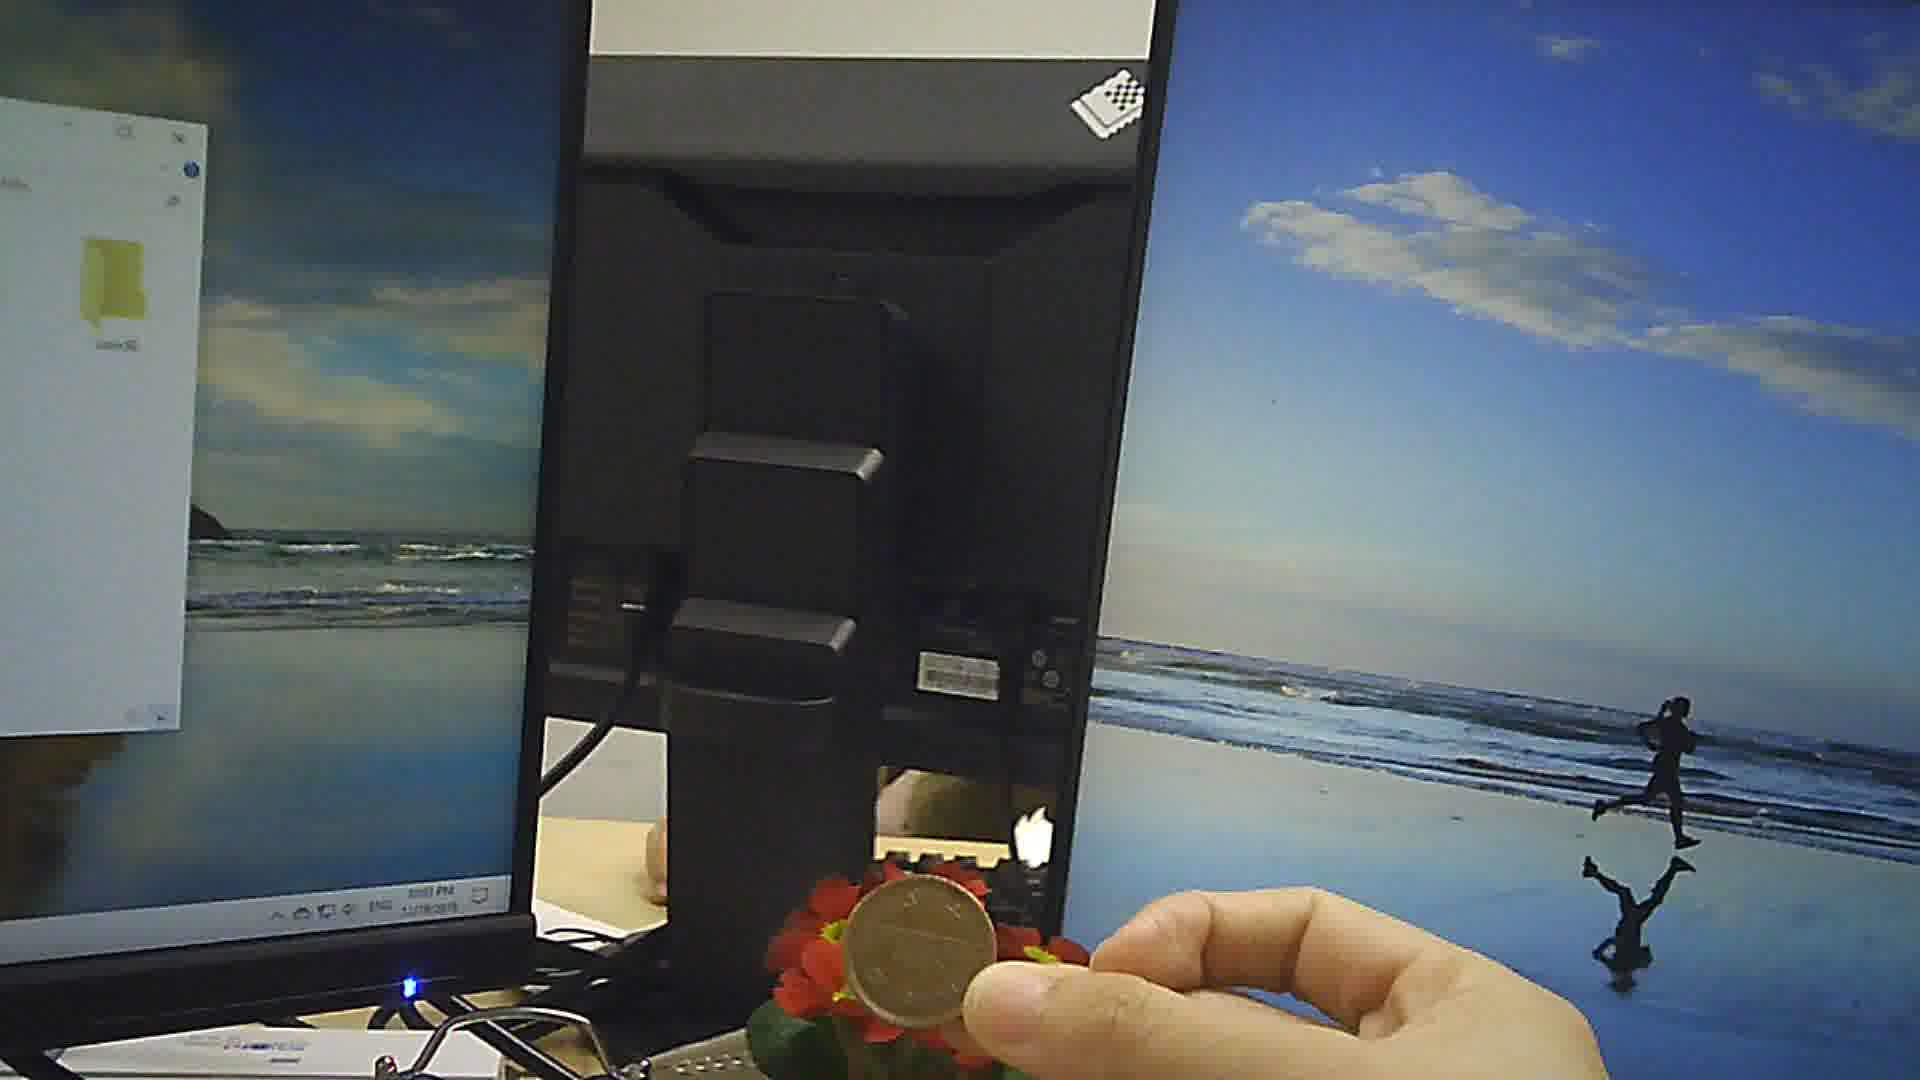10 Yen: (841, 872, 1006, 1031)
